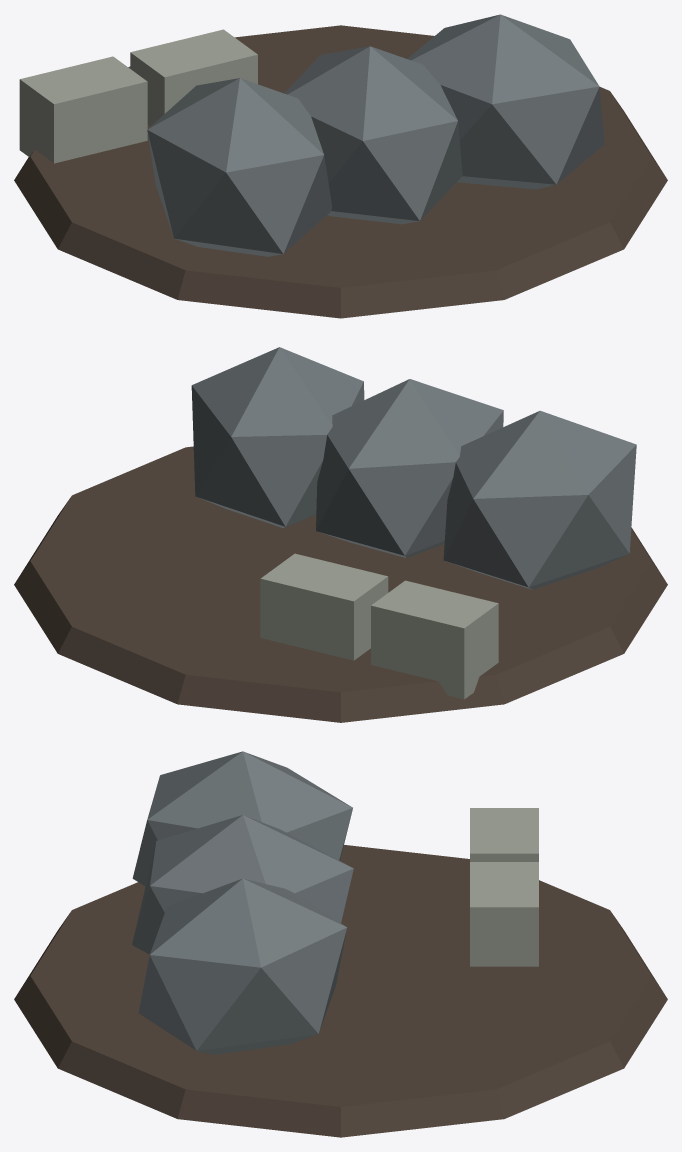
File: Field_Stone_1.fbx
The picture shows the model from 3 angles, top to bottom: view 1: azimuth 30°, elevation 25°; view 2: azimuth 150°, elevation 25°; view 3: azimuth 270°, elevation 25°; orthographic projection.
Parts seen in each view (by area): view 1: Field_Stone_1; view 2: Field_Stone_1; view 3: Field_Stone_1.
Part boxes in pixels (<box>): Field_Stone_1: <box>14,14,667,318</box>; Field_Stone_1: <box>14,347,667,722</box>; Field_Stone_1: <box>14,751,667,1137</box>.
Size of the model in its own units: 2 by 0.62 by 2.
1 material, 1 textured.
